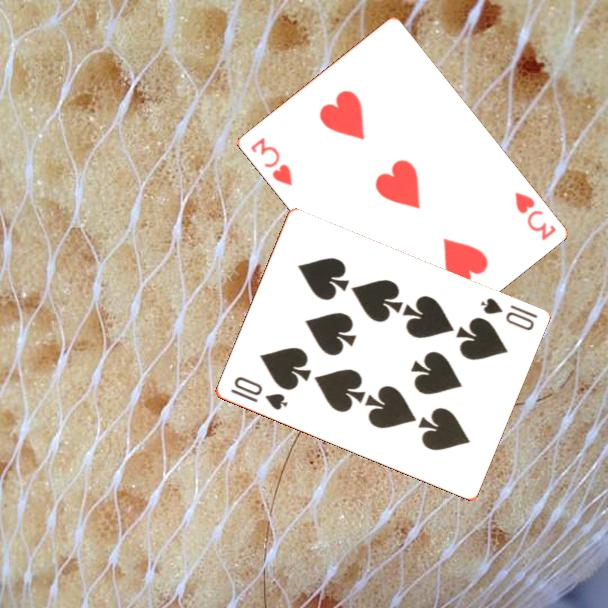h03: (246, 134, 295, 189), (510, 188, 559, 243)
s10: (476, 294, 540, 334), (227, 373, 290, 413)
